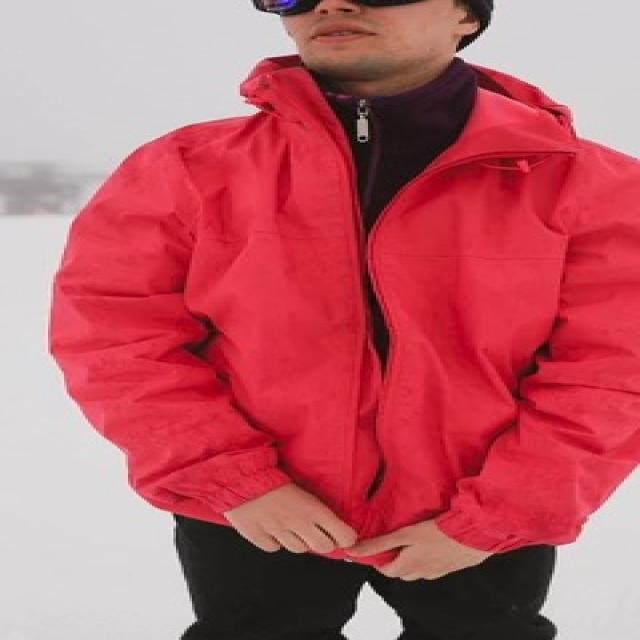Jacket_Wearer: (39, 78, 640, 543)
Person: (50, 1, 640, 640)
